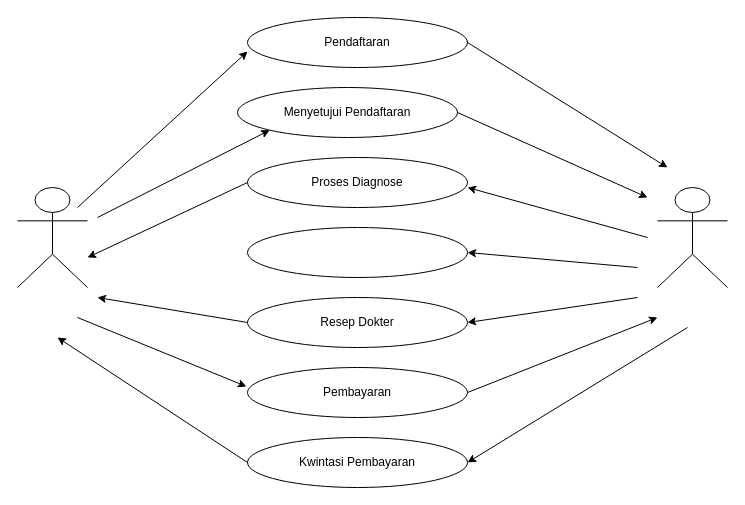
Image size: 745x505. Some labels were removed from this diagram. The shapes that lost their labels are listed below. From the top down, each one's box as (x1, y1, x2, y2) in pixels, then its label:
(16, 186, 88, 288): Pasien
(246, 226, 468, 278): Kelola Data Dokter
(656, 186, 728, 288): Pihak Klinik
